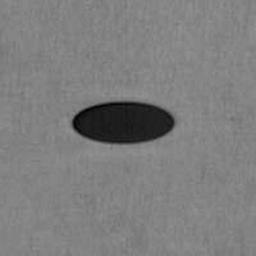Punching: (69, 101, 177, 146)
